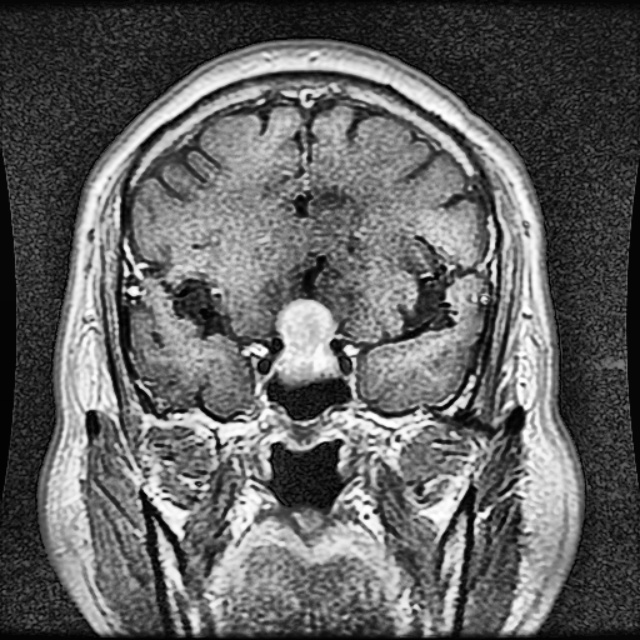Pituitary: (274, 298, 334, 382)
